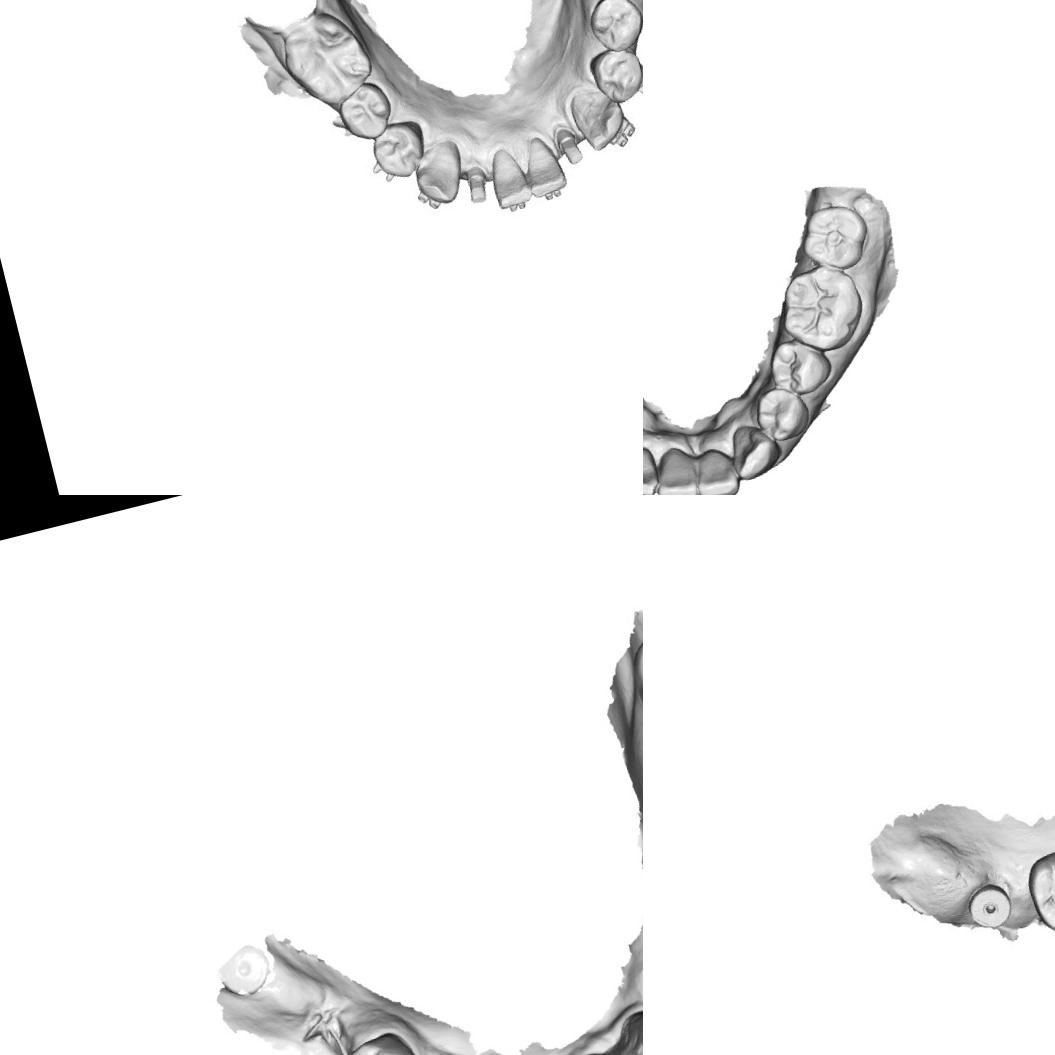abutment: (458, 161, 492, 214), (556, 125, 588, 172)
canine: (563, 78, 635, 161), (724, 414, 786, 484), (407, 142, 467, 212)
implant: (210, 937, 276, 1002), (962, 876, 1018, 934)
incisor: (484, 140, 534, 209), (686, 441, 744, 495), (646, 442, 702, 495), (518, 133, 565, 195), (643, 441, 666, 495)
molar: (273, 4, 380, 116), (770, 257, 873, 361), (791, 196, 877, 278), (1019, 838, 1055, 942)
premolar: (762, 329, 838, 402), (331, 75, 400, 144), (364, 116, 432, 186), (749, 379, 816, 446), (582, 40, 643, 104), (584, 0, 643, 51), (331, 1026, 431, 1055)
